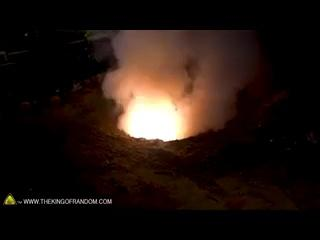Fire: (125, 88, 188, 138)
